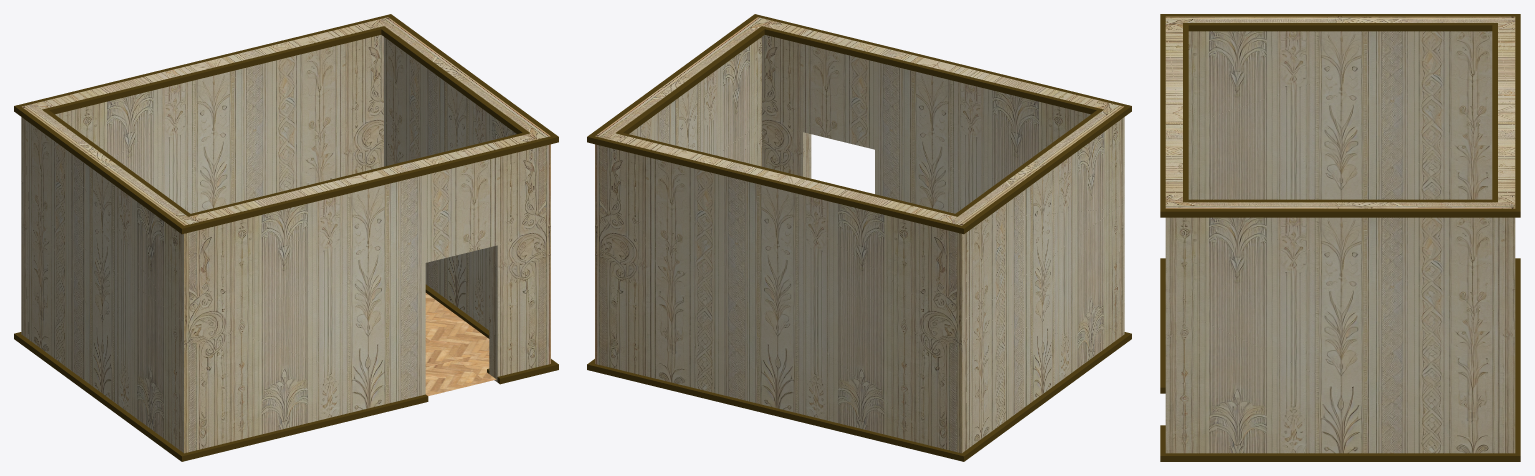
File: Room_3.fbx
The picture shows the model from 3 angles, left to right: view 1: azimuth 30°, elevation 25°; view 2: azimuth 150°, elevation 25°; view 3: azimuth 270°, elevation 25°; orthographic projection. The views are drawn at different scales.
Parts seen in each view (by area): view 1: Cube.036, Cube.038, Cube.039, Plane.009, Cube.037, Cube.040; view 2: Cube.036, Cube.038, Cube.039, Cube.037; view 3: Cube.036, Cube.038, Cube.039, Cube.037.
Part boxes in pixels (<box>): Cube.036: <box>21,17,550,453</box>; Cube.038: <box>14,14,558,234</box>; Cube.039: <box>42,26,529,216</box>; Plane.009: <box>425,293,496,396</box>; Cube.037: <box>14,332,558,461</box>; Cube.040: <box>425,284,489,373</box>; Cube.036: <box>595,17,1124,453</box>; Cube.038: <box>587,14,1131,234</box>; Cube.039: <box>616,26,1103,216</box>; Cube.037: <box>587,332,1131,461</box>; Cube.036: <box>1165,16,1515,453</box>; Cube.038: <box>1160,14,1520,217</box>; Cube.039: <box>1183,23,1497,202</box>; Cube.037: <box>1160,258,1520,461</box>.
Size of the model in its own units: 1488 by 880 by 1147.
3 materials, 2 textured.
